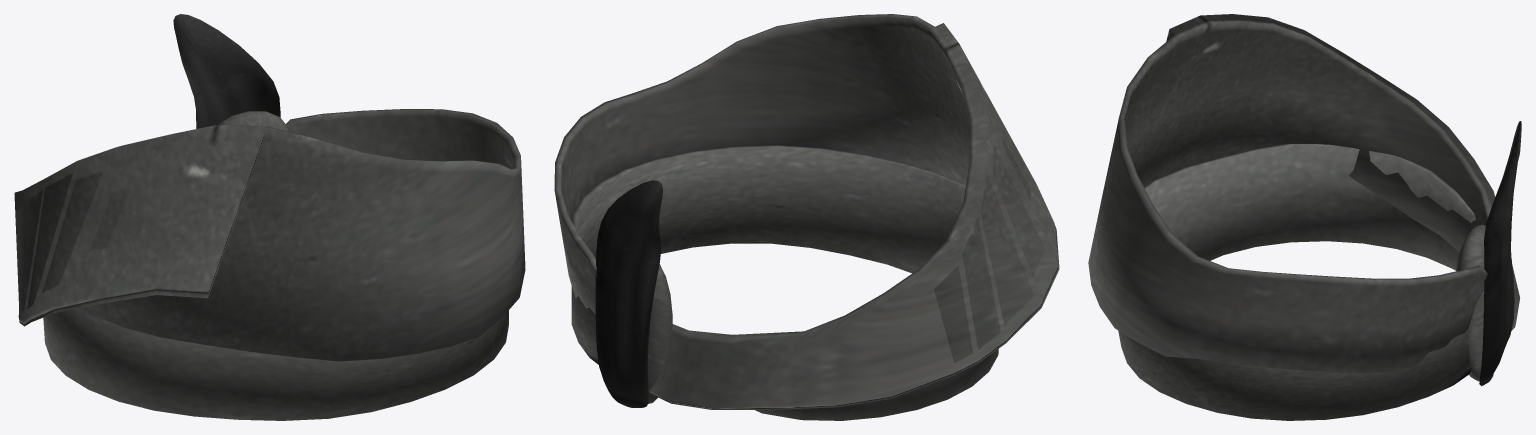
Rendered from tanjak_lang.glb.
The picture shows the model from 3 angles, left to right: view 1: azimuth 30°, elevation 25°; view 2: azimuth 150°, elevation 25°; view 3: azimuth 270°, elevation 25°; orthographic projection. The views are drawn at different scales.
Parts seen in each view (by area): view 1: polySurface1; view 2: polySurface1; view 3: polySurface1.
Part boxes in pixels (<box>): polySurface1: <box>14,14,525,420</box>; polySurface1: <box>554,14,1059,420</box>; polySurface1: <box>1088,14,1521,420</box>.
Size of the model in its own units: 35.94 by 22.11 by 31.
1 material, 1 textured.
